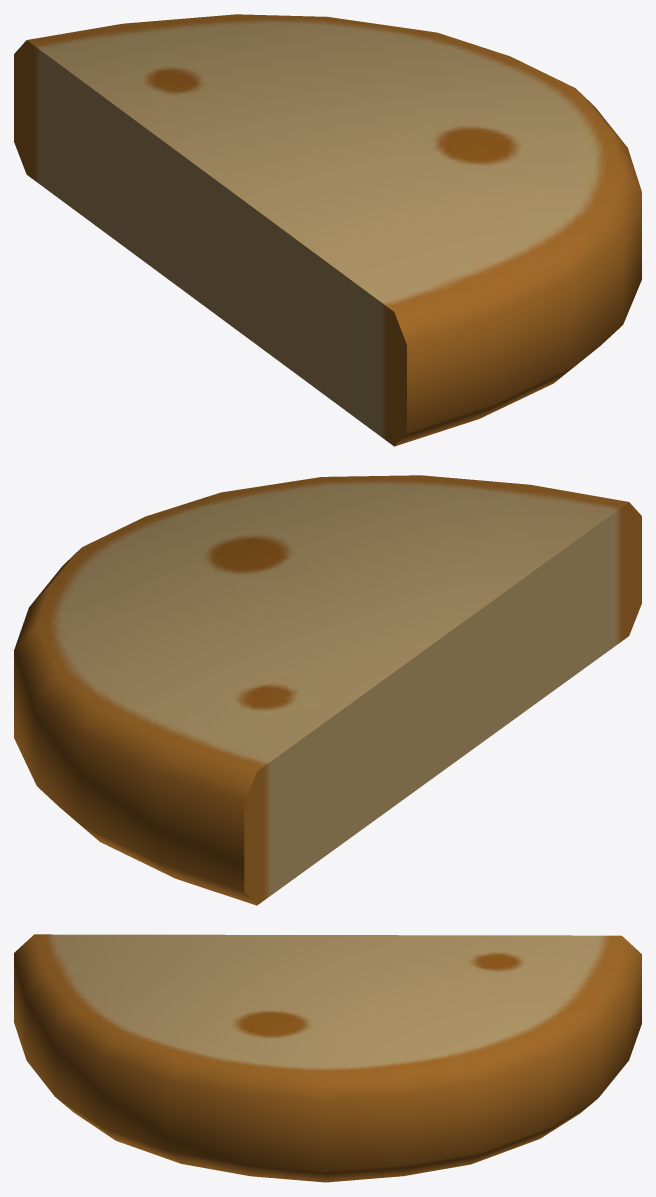
Rendered from PotatoPiece.glb.
3 views of the same model, one above another, from view 1: azimuth 30°, elevation 25°; view 2: azimuth 150°, elevation 25°; view 3: azimuth 270°, elevation 25° (orthographic). The views are drawn at different scales.
Visible parts, largest first — view 1: geometry_0; view 2: geometry_0; view 3: geometry_0.
Part boxes in pixels (x1=…): geometry_0: x1=14, y1=14, x2=641, y2=446; geometry_0: x1=14, y1=475, x2=641, y2=905; geometry_0: x1=14, y1=934, x2=641, y2=1182.
Size of the model in its own units: 0.4181 by 0.1397 by 0.745.
Materials: 1 (1 with a texture image).
